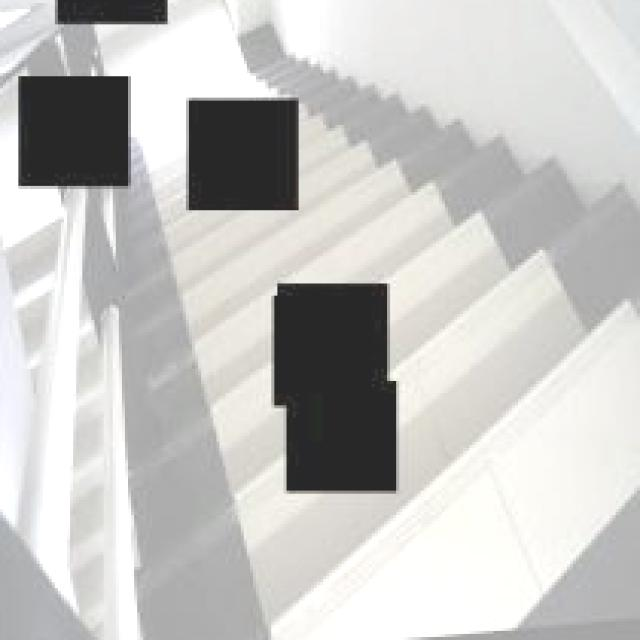downstair: (400, 187, 640, 640)
